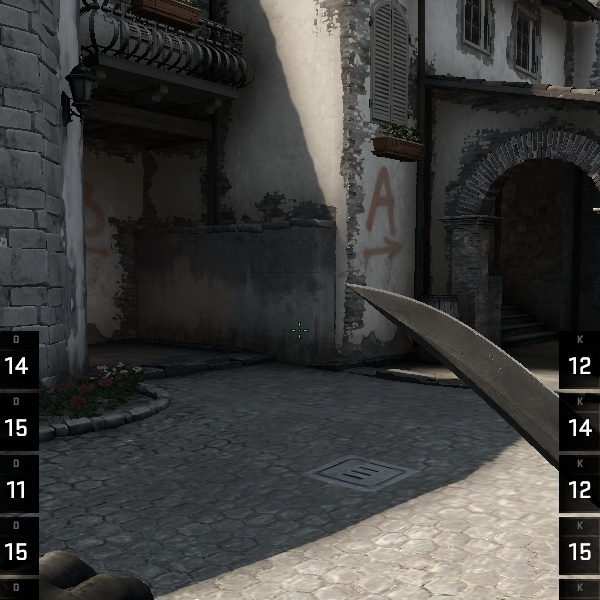ct_head: (43, 0, 338, 217)
